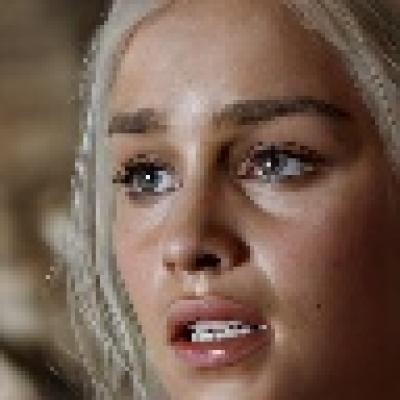sad: (94, 14, 391, 399)
